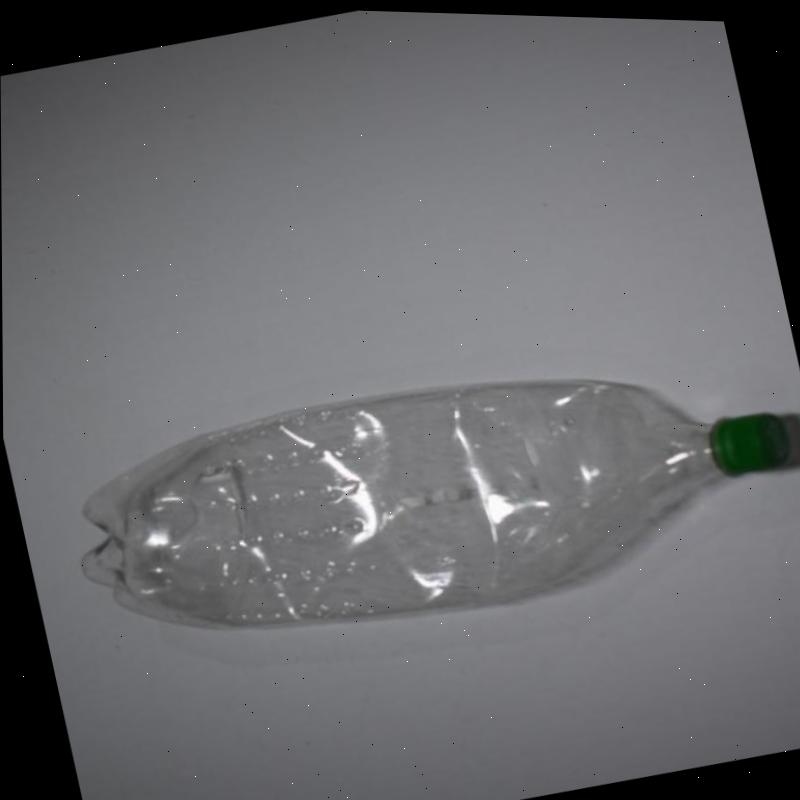botella: (55, 304, 800, 694)
